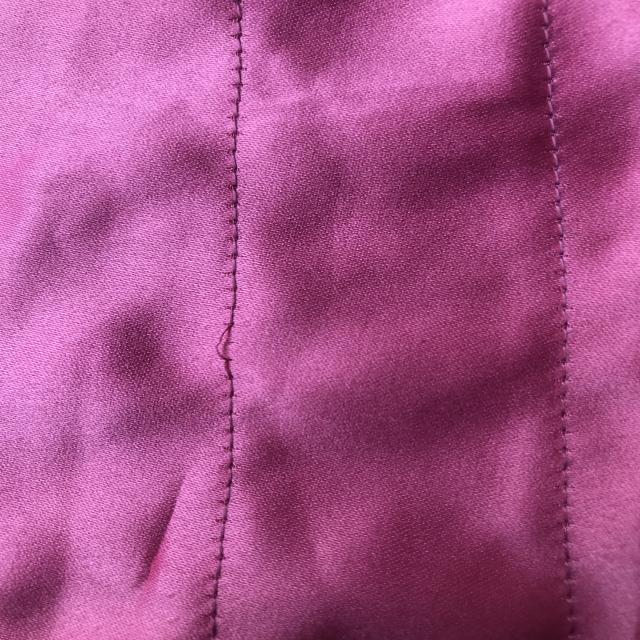skip: (180, 310, 261, 370)
